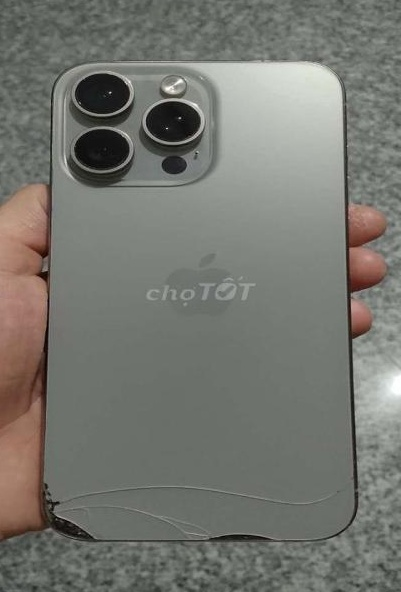physical_damage: (34, 454, 354, 531), (18, 484, 97, 540)
